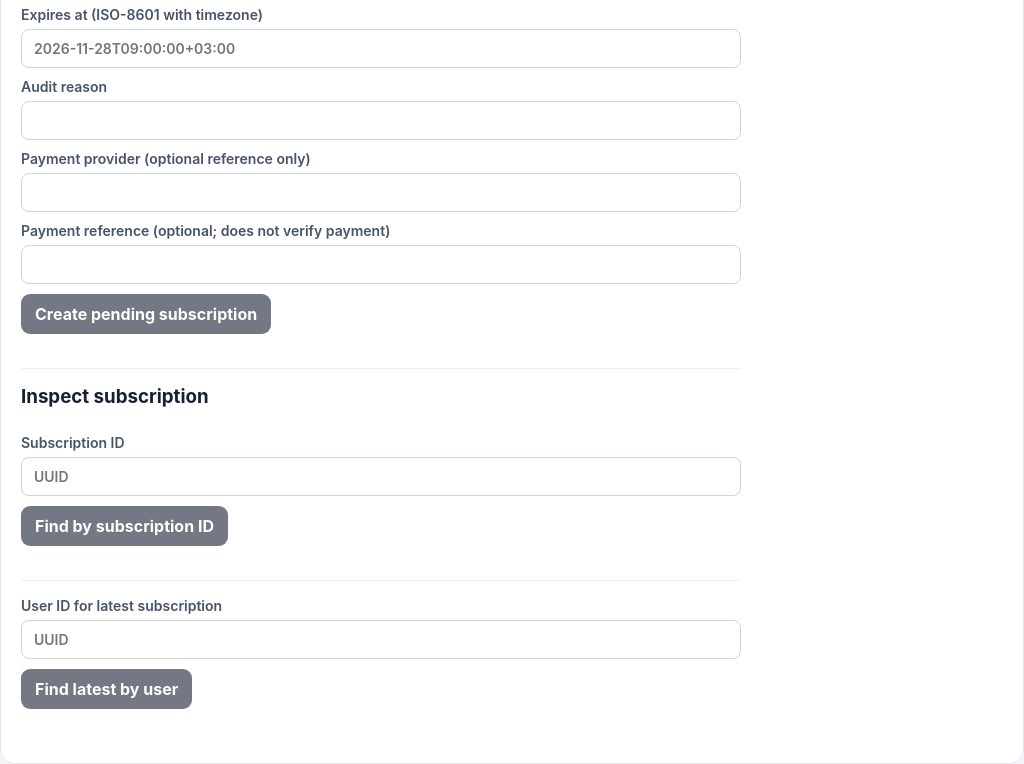
SubscriptionAdminPanel › loads and displays persisted subscription audit events
(page scrolled)
Type "subscription-audit" into the field labelled "Subscription ID" at (381, 476), box top-left (21, 457), bottom-right (741, 496)
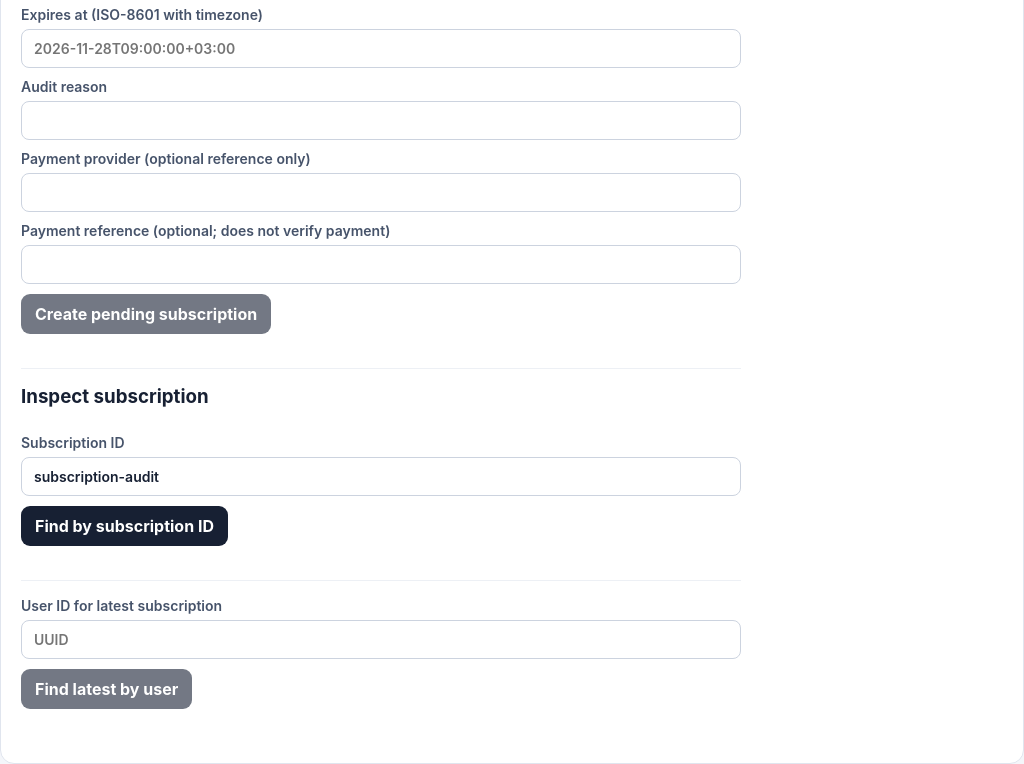
Click the button "Find by subscription ID" at (124, 526), box top-left (21, 506), bottom-right (228, 546)
(page scrolled)
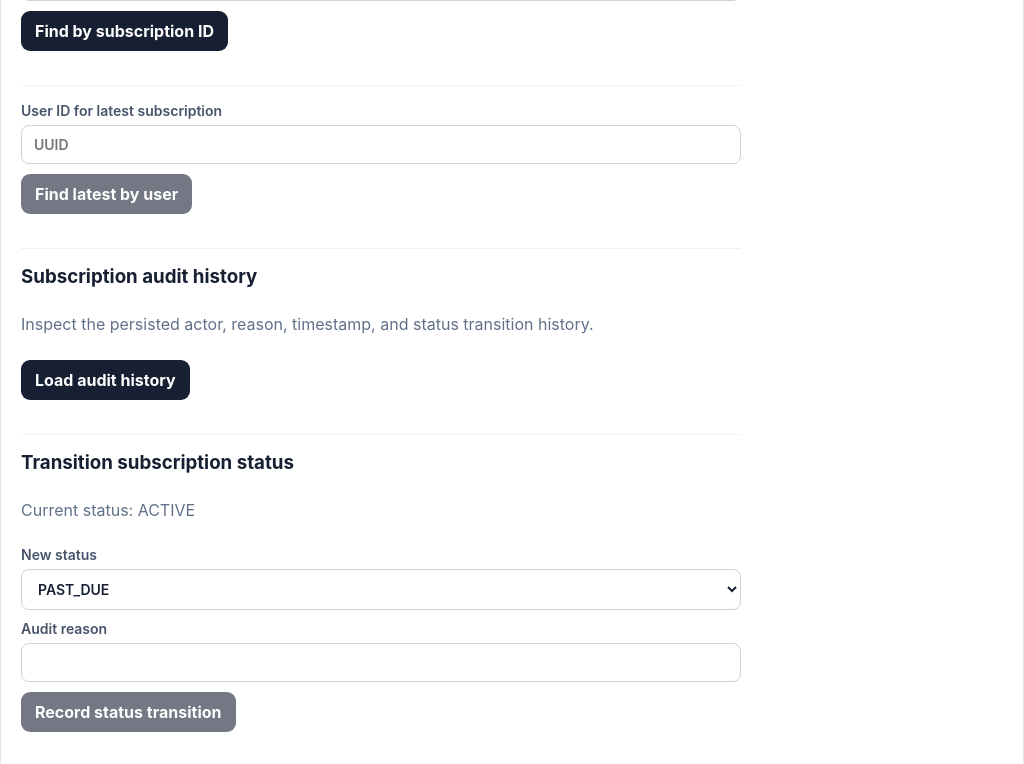
Click the button "Load audit history" at (105, 380), box top-left (21, 360), bottom-right (190, 400)
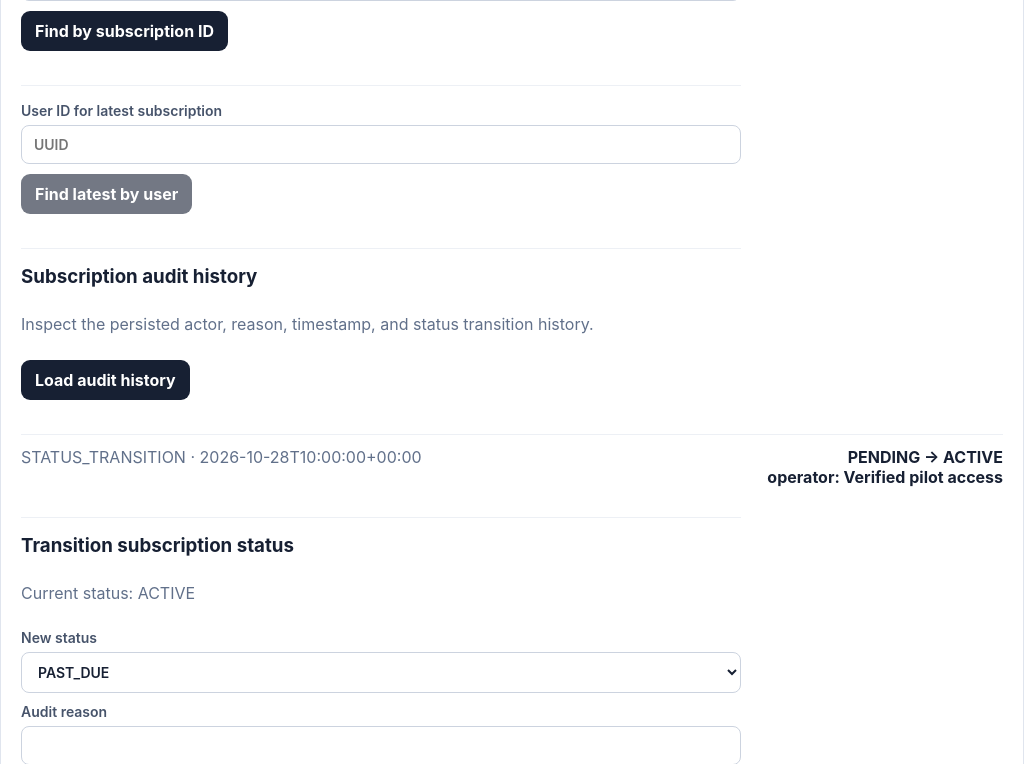
Expected: the element named "subscription audit history" shows "Verified pilot access", top-left (844, 467), bottom-right (1003, 487)
Expected: the element named "subscription audit history" shows "PENDING → ACTIVE", top-left (21, 434), bottom-right (1003, 499)
